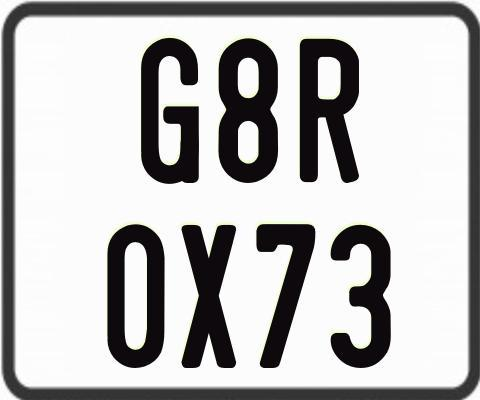0: (105, 223, 166, 367)
3: (328, 225, 389, 368)
7: (254, 224, 314, 370)
8: (218, 36, 279, 184)
G: (141, 36, 203, 188)
R: (297, 38, 362, 185)
X: (180, 223, 235, 370)
